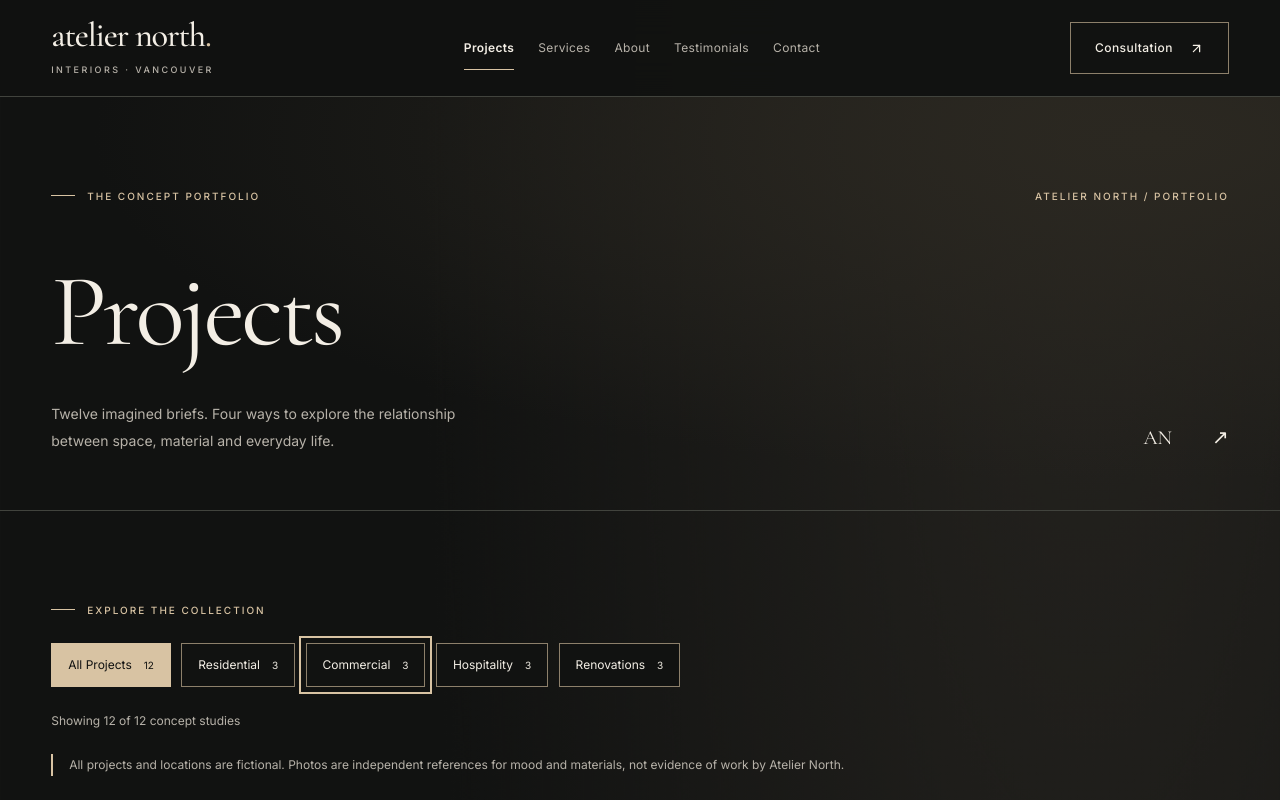
Test: project category filters › selects Commercial with the right cards, count and active state
The width and height of the screenshot is (1280, 800).
Expected: the heading "Projects" is shown, top-left (51, 249), bottom-right (342, 373)
Click the button "Commercial 3". click: click(366, 665)
box: top-left (306, 643), bottom-right (426, 687)
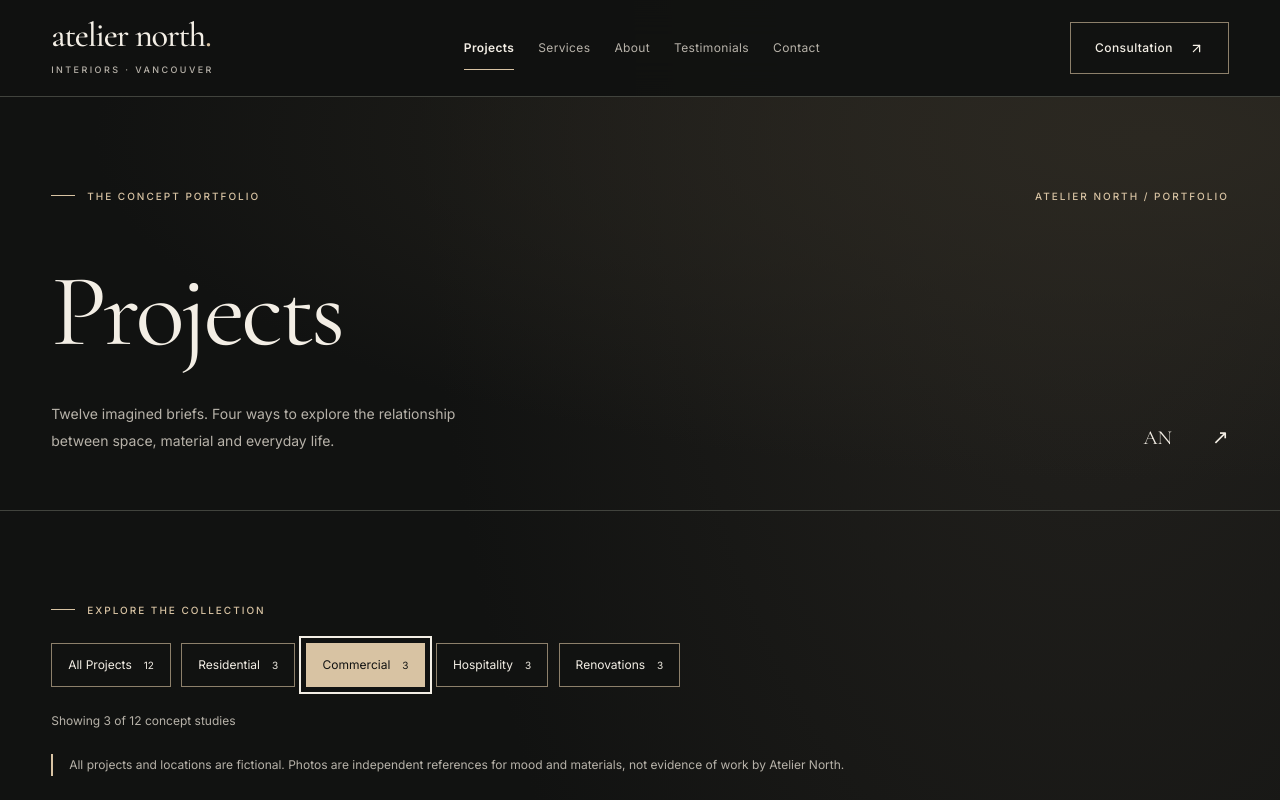
Expected: the message shows "Showing 3 of 12", top-left (51, 713), bottom-right (236, 728)
Click the button "All Projects 12". click: click(111, 665)
box: top-left (51, 643), bottom-right (171, 687)
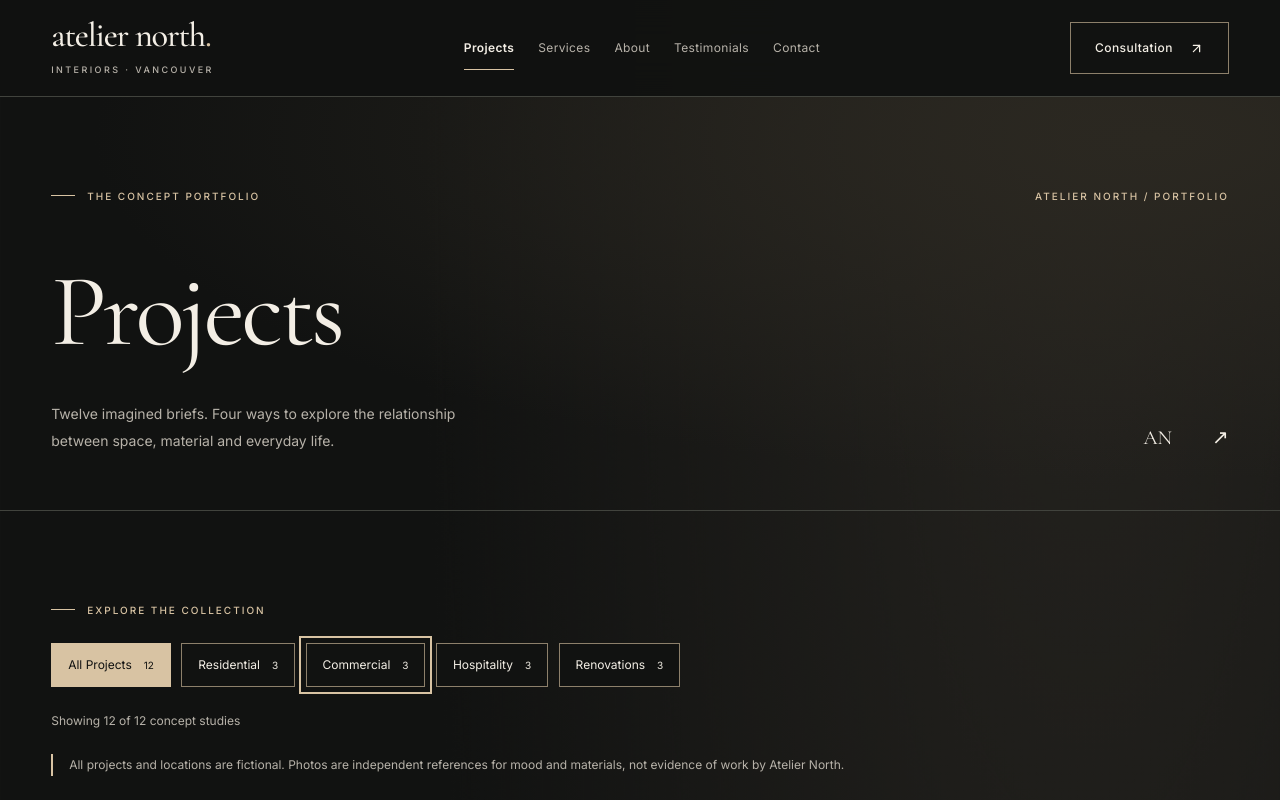
Expected: the message shows "Showing 12 of 12", top-left (51, 713), bottom-right (240, 728)
